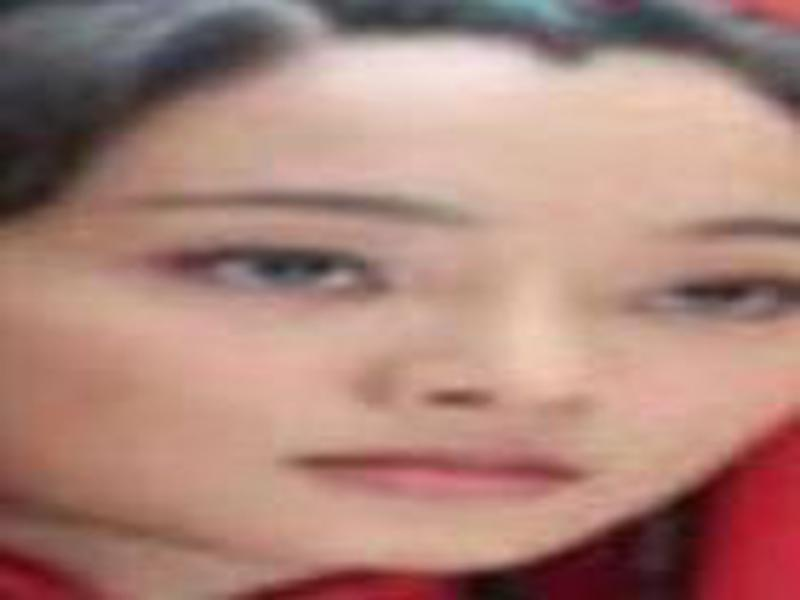without_mask: (17, 104, 800, 568)
